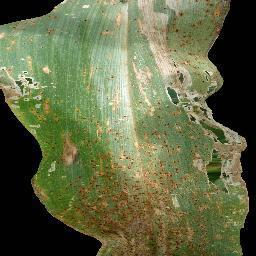Corn_Common_Rust: (116, 0, 200, 256), (17, 120, 116, 256), (199, 89, 252, 255), (0, 10, 52, 120), (200, 0, 232, 87), (52, 96, 116, 121), (82, 63, 101, 95), (97, 0, 116, 10), (52, 0, 71, 10), (102, 26, 114, 40), (79, 1, 93, 12), (81, 16, 91, 26), (107, 73, 116, 82)
